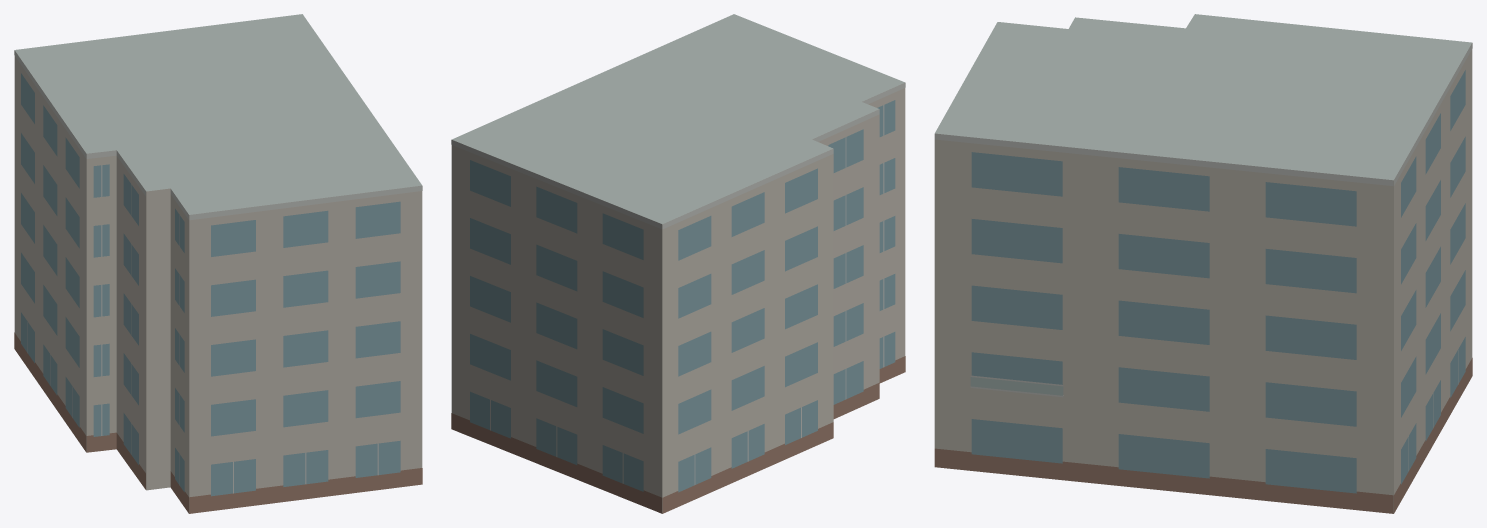
File: survey-upis-32673333.glb
3 views of the same model, side by side, from view 1: azimuth 30°, elevation 25°; view 2: azimuth 150°, elevation 25°; view 3: azimuth 270°, elevation 25° (orthographic). The views are drawn at different scales.
Parts seen in each view (by area): view 1: survey-upis-32673333.tmp; view 2: survey-upis-32673333.tmp; view 3: survey-upis-32673333.tmp.
Boxes of the visible parts, x1,y1,x2,y2 form: survey-upis-32673333.tmp: (14, 14, 422, 513); survey-upis-32673333.tmp: (451, 14, 905, 513); survey-upis-32673333.tmp: (934, 14, 1472, 513).
Bounding box in the file's own units: 14.54 × 13.6 × 19.88.
